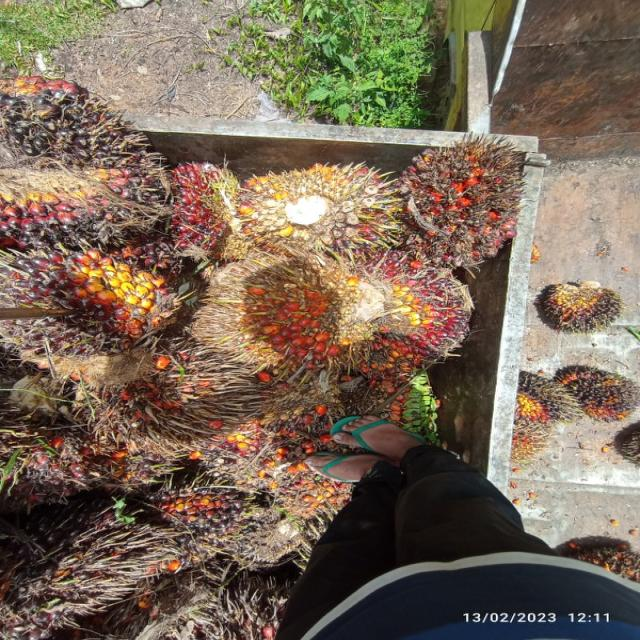fraksi 00: (0, 55, 173, 263), (123, 470, 263, 564), (537, 260, 624, 341), (569, 368, 640, 422), (516, 367, 576, 429)
fraksi 1: (0, 237, 183, 368), (348, 240, 479, 384), (153, 145, 243, 267)
fraksi 4: (182, 238, 368, 375), (80, 337, 273, 460), (391, 113, 531, 244)
